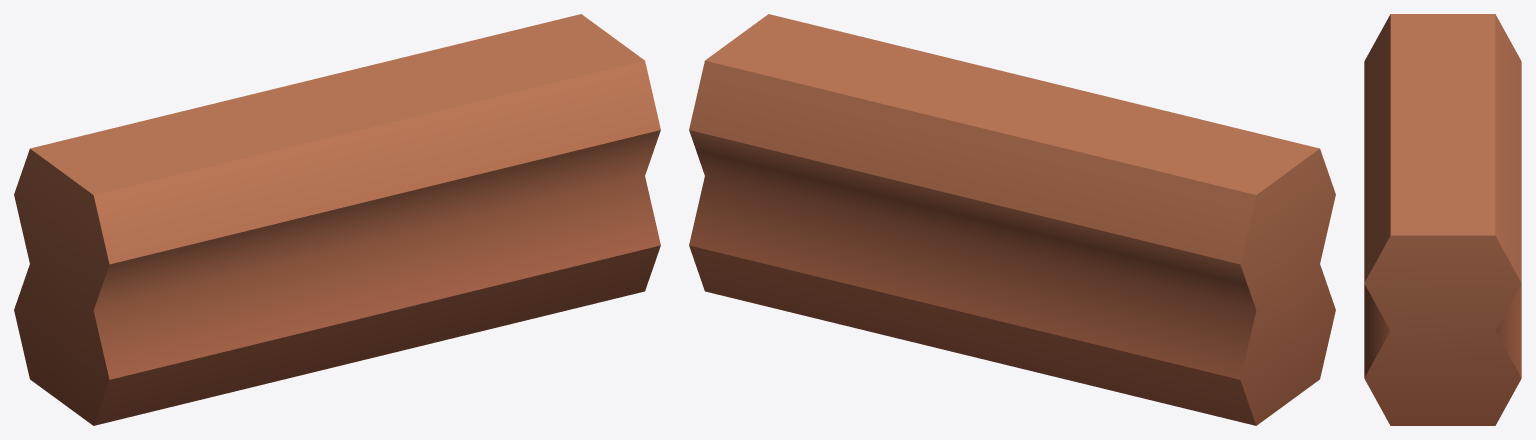
Rendered from cabin-wall-low.glb.
3 views of the same model, side by side, from view 1: azimuth 30°, elevation 25°; view 2: azimuth 150°, elevation 25°; view 3: azimuth 270°, elevation 25° (orthographic). The views are drawn at different scales.
Visible parts, largest first — view 1: cabin-wall-low; view 2: cabin-wall-low; view 3: cabin-wall-low.
Boxes of the visible parts, box(x1,y1,x2,y2) form: cabin-wall-low: box(14, 14, 660, 425); cabin-wall-low: box(689, 14, 1335, 425); cabin-wall-low: box(1364, 14, 1521, 425).
Bounding box in the file's own units: 1 × 0.4 × 0.3.
